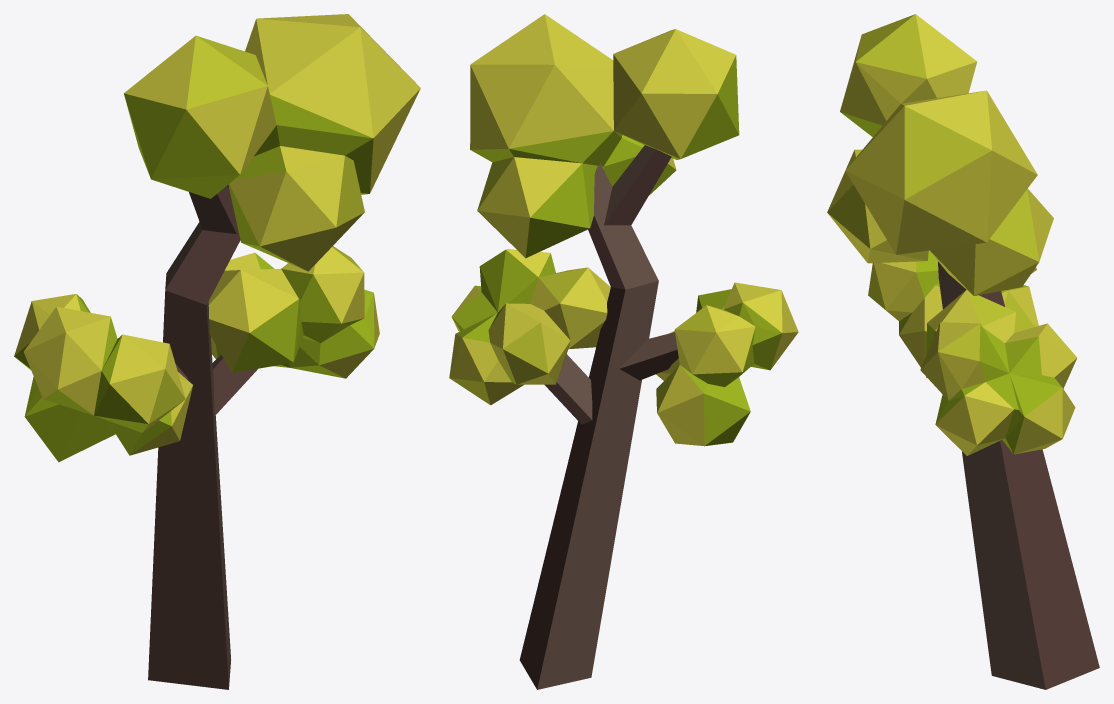
The model's file is TB_D_Env_TreeC_A.FBX.
3 views of the same model, side by side, from view 1: azimuth 30°, elevation 25°; view 2: azimuth 150°, elevation 25°; view 3: azimuth 270°, elevation 25° (orthographic). The views are drawn at different scales.
Parts seen in each view (by area): view 1: TB_D_Env_TreeC_A; view 2: TB_D_Env_TreeC_A; view 3: TB_D_Env_TreeC_A.
Part boxes in pixels (left/top/right/bottom): TB_D_Env_TreeC_A: left=14, top=14, right=420, bottom=689; TB_D_Env_TreeC_A: left=449, top=14, right=798, bottom=689; TB_D_Env_TreeC_A: left=827, top=14, right=1099, bottom=689.
Size of the model in its own units: 2.64 by 4.85 by 1.91.
